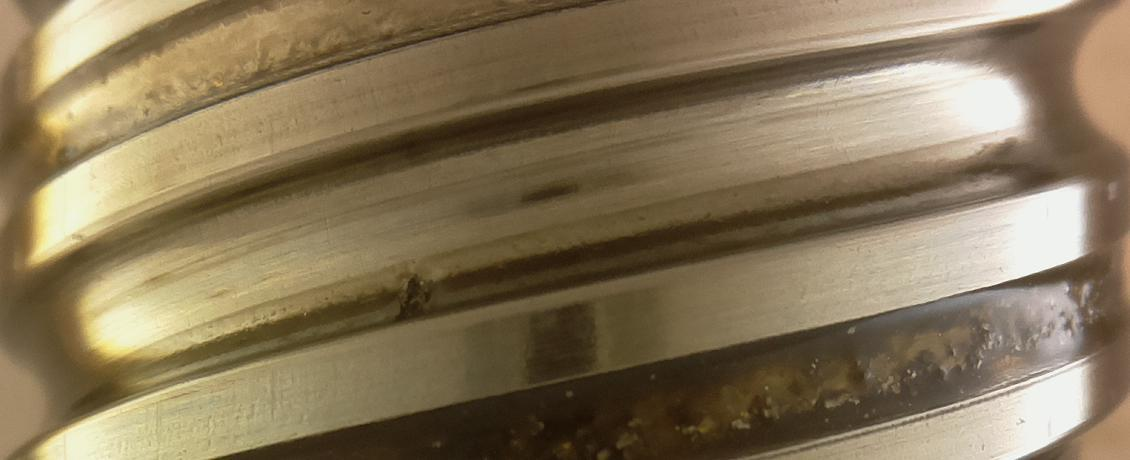pitting: (396, 277, 431, 321)
